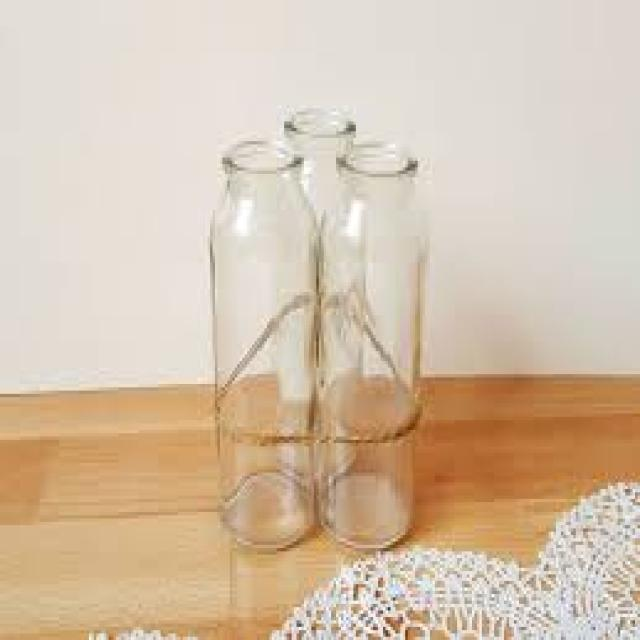Glass: (210, 136, 321, 553), (318, 142, 427, 547)
